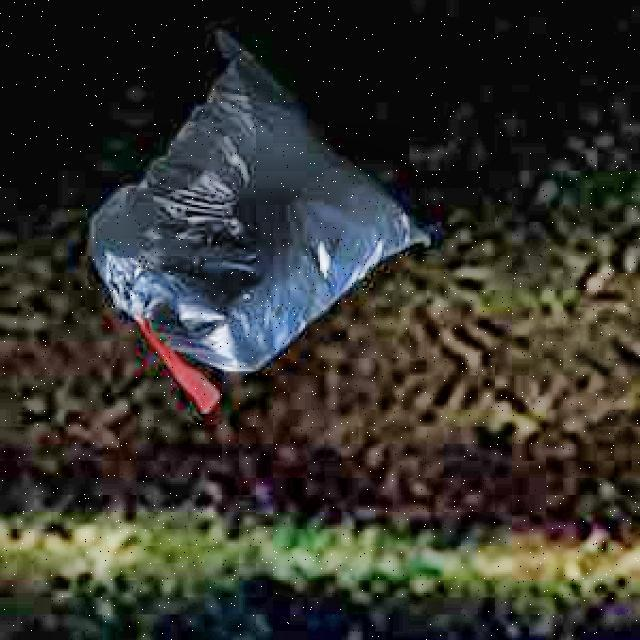Trashbag: (72, 23, 444, 374)
